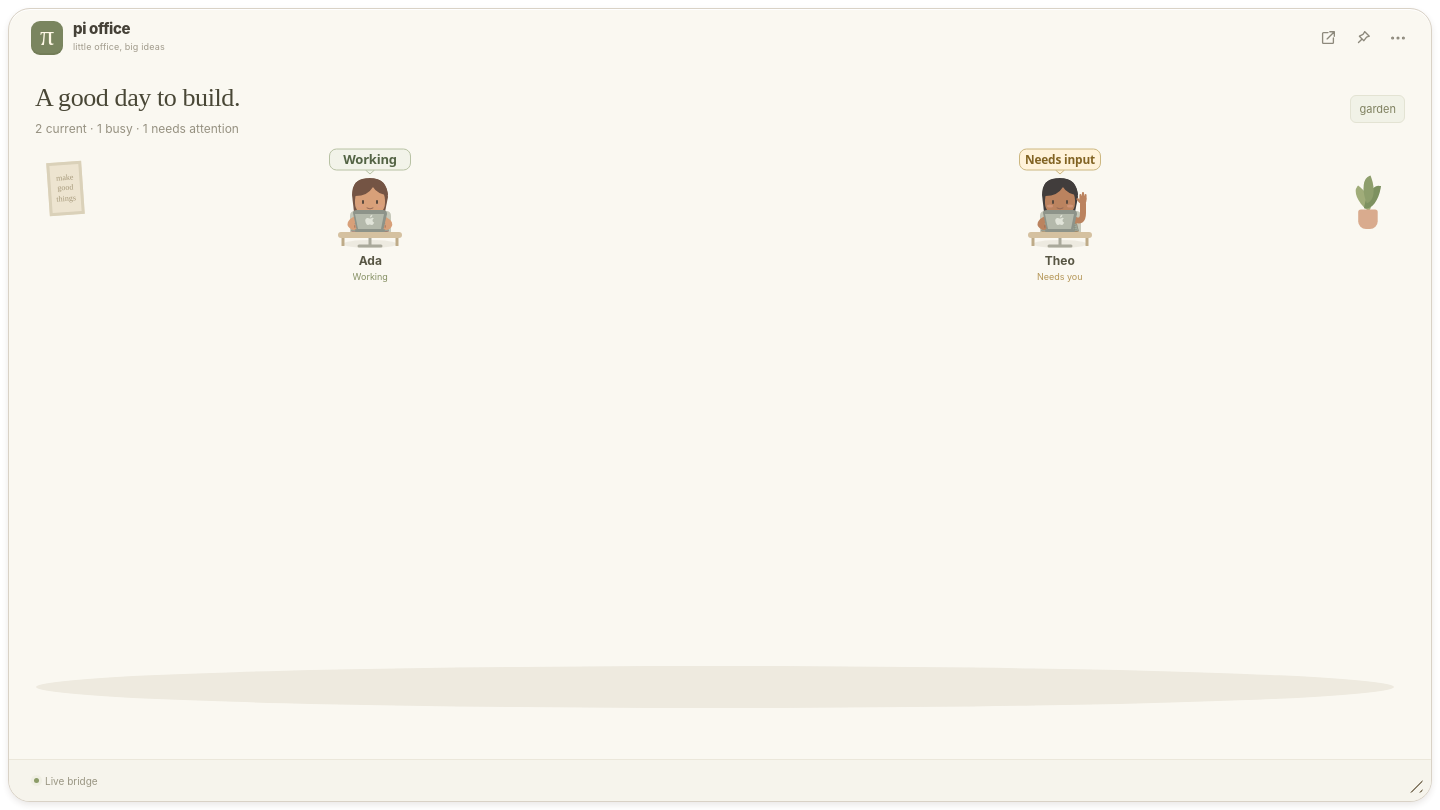
Test: companion renderer › opens read-only task and project details, closes with Escape and restores focus
Click the button with aria-label "Ada, Working, garden": click(370, 216) [306,144,434,288]
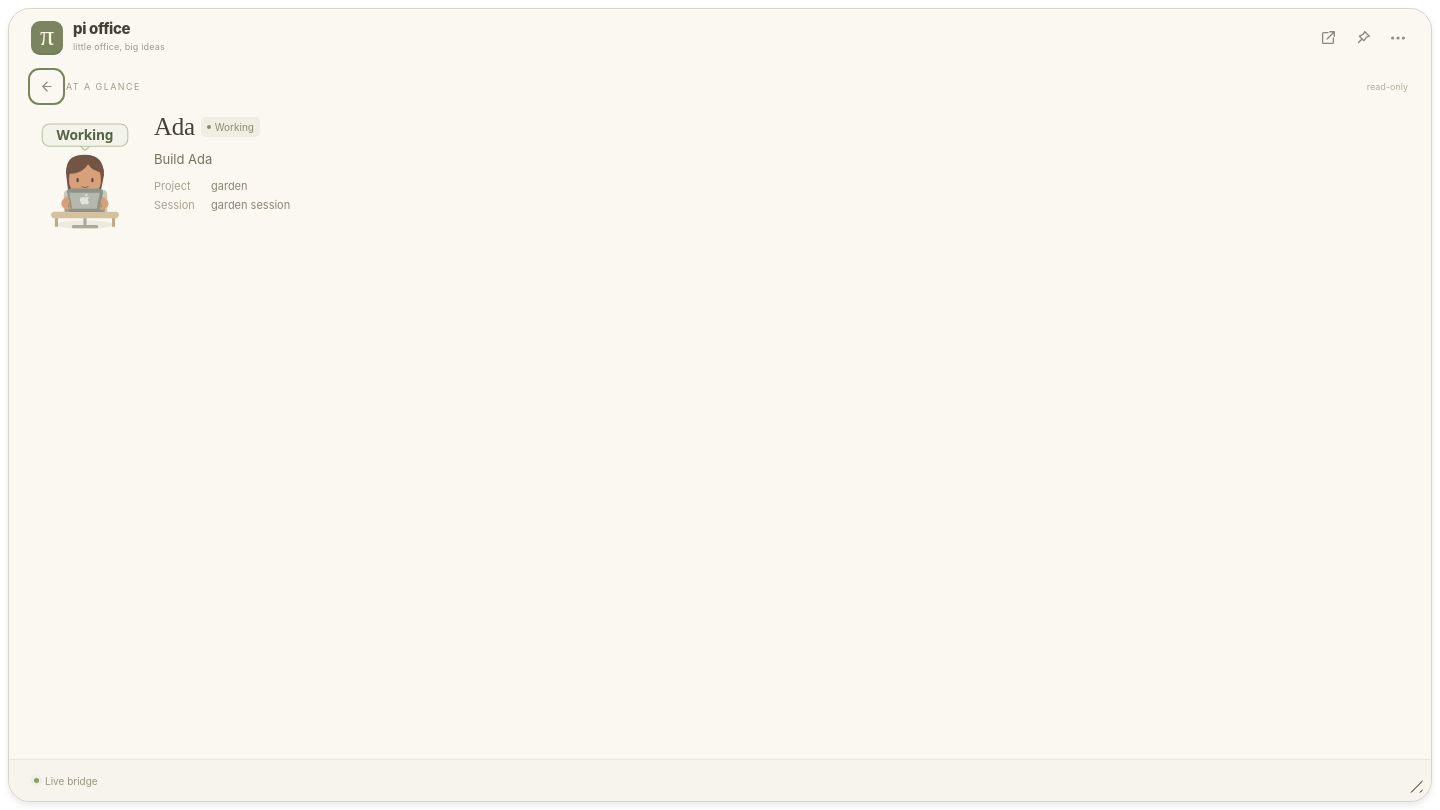
Now the text "Build Ada" is shown, box [154,151,212,167]
Now the text "garden session" is shown, box [211,196,290,214]
Now the text "read-only" is shown, box [1367,81,1408,92]
Press Escape in the button named "Back to office", box [32,72,61,101]
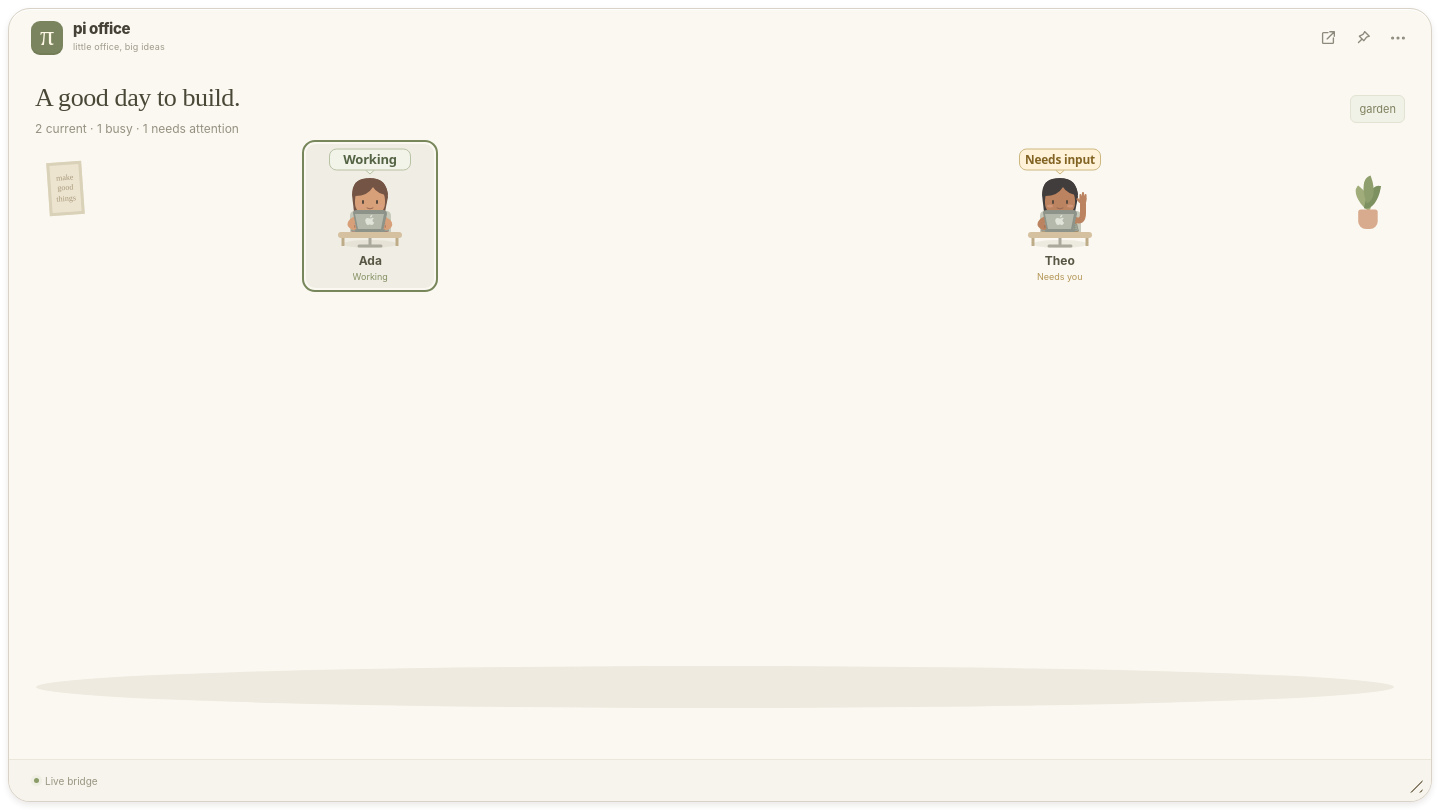
Now the heading "Details for Ada" is gone
